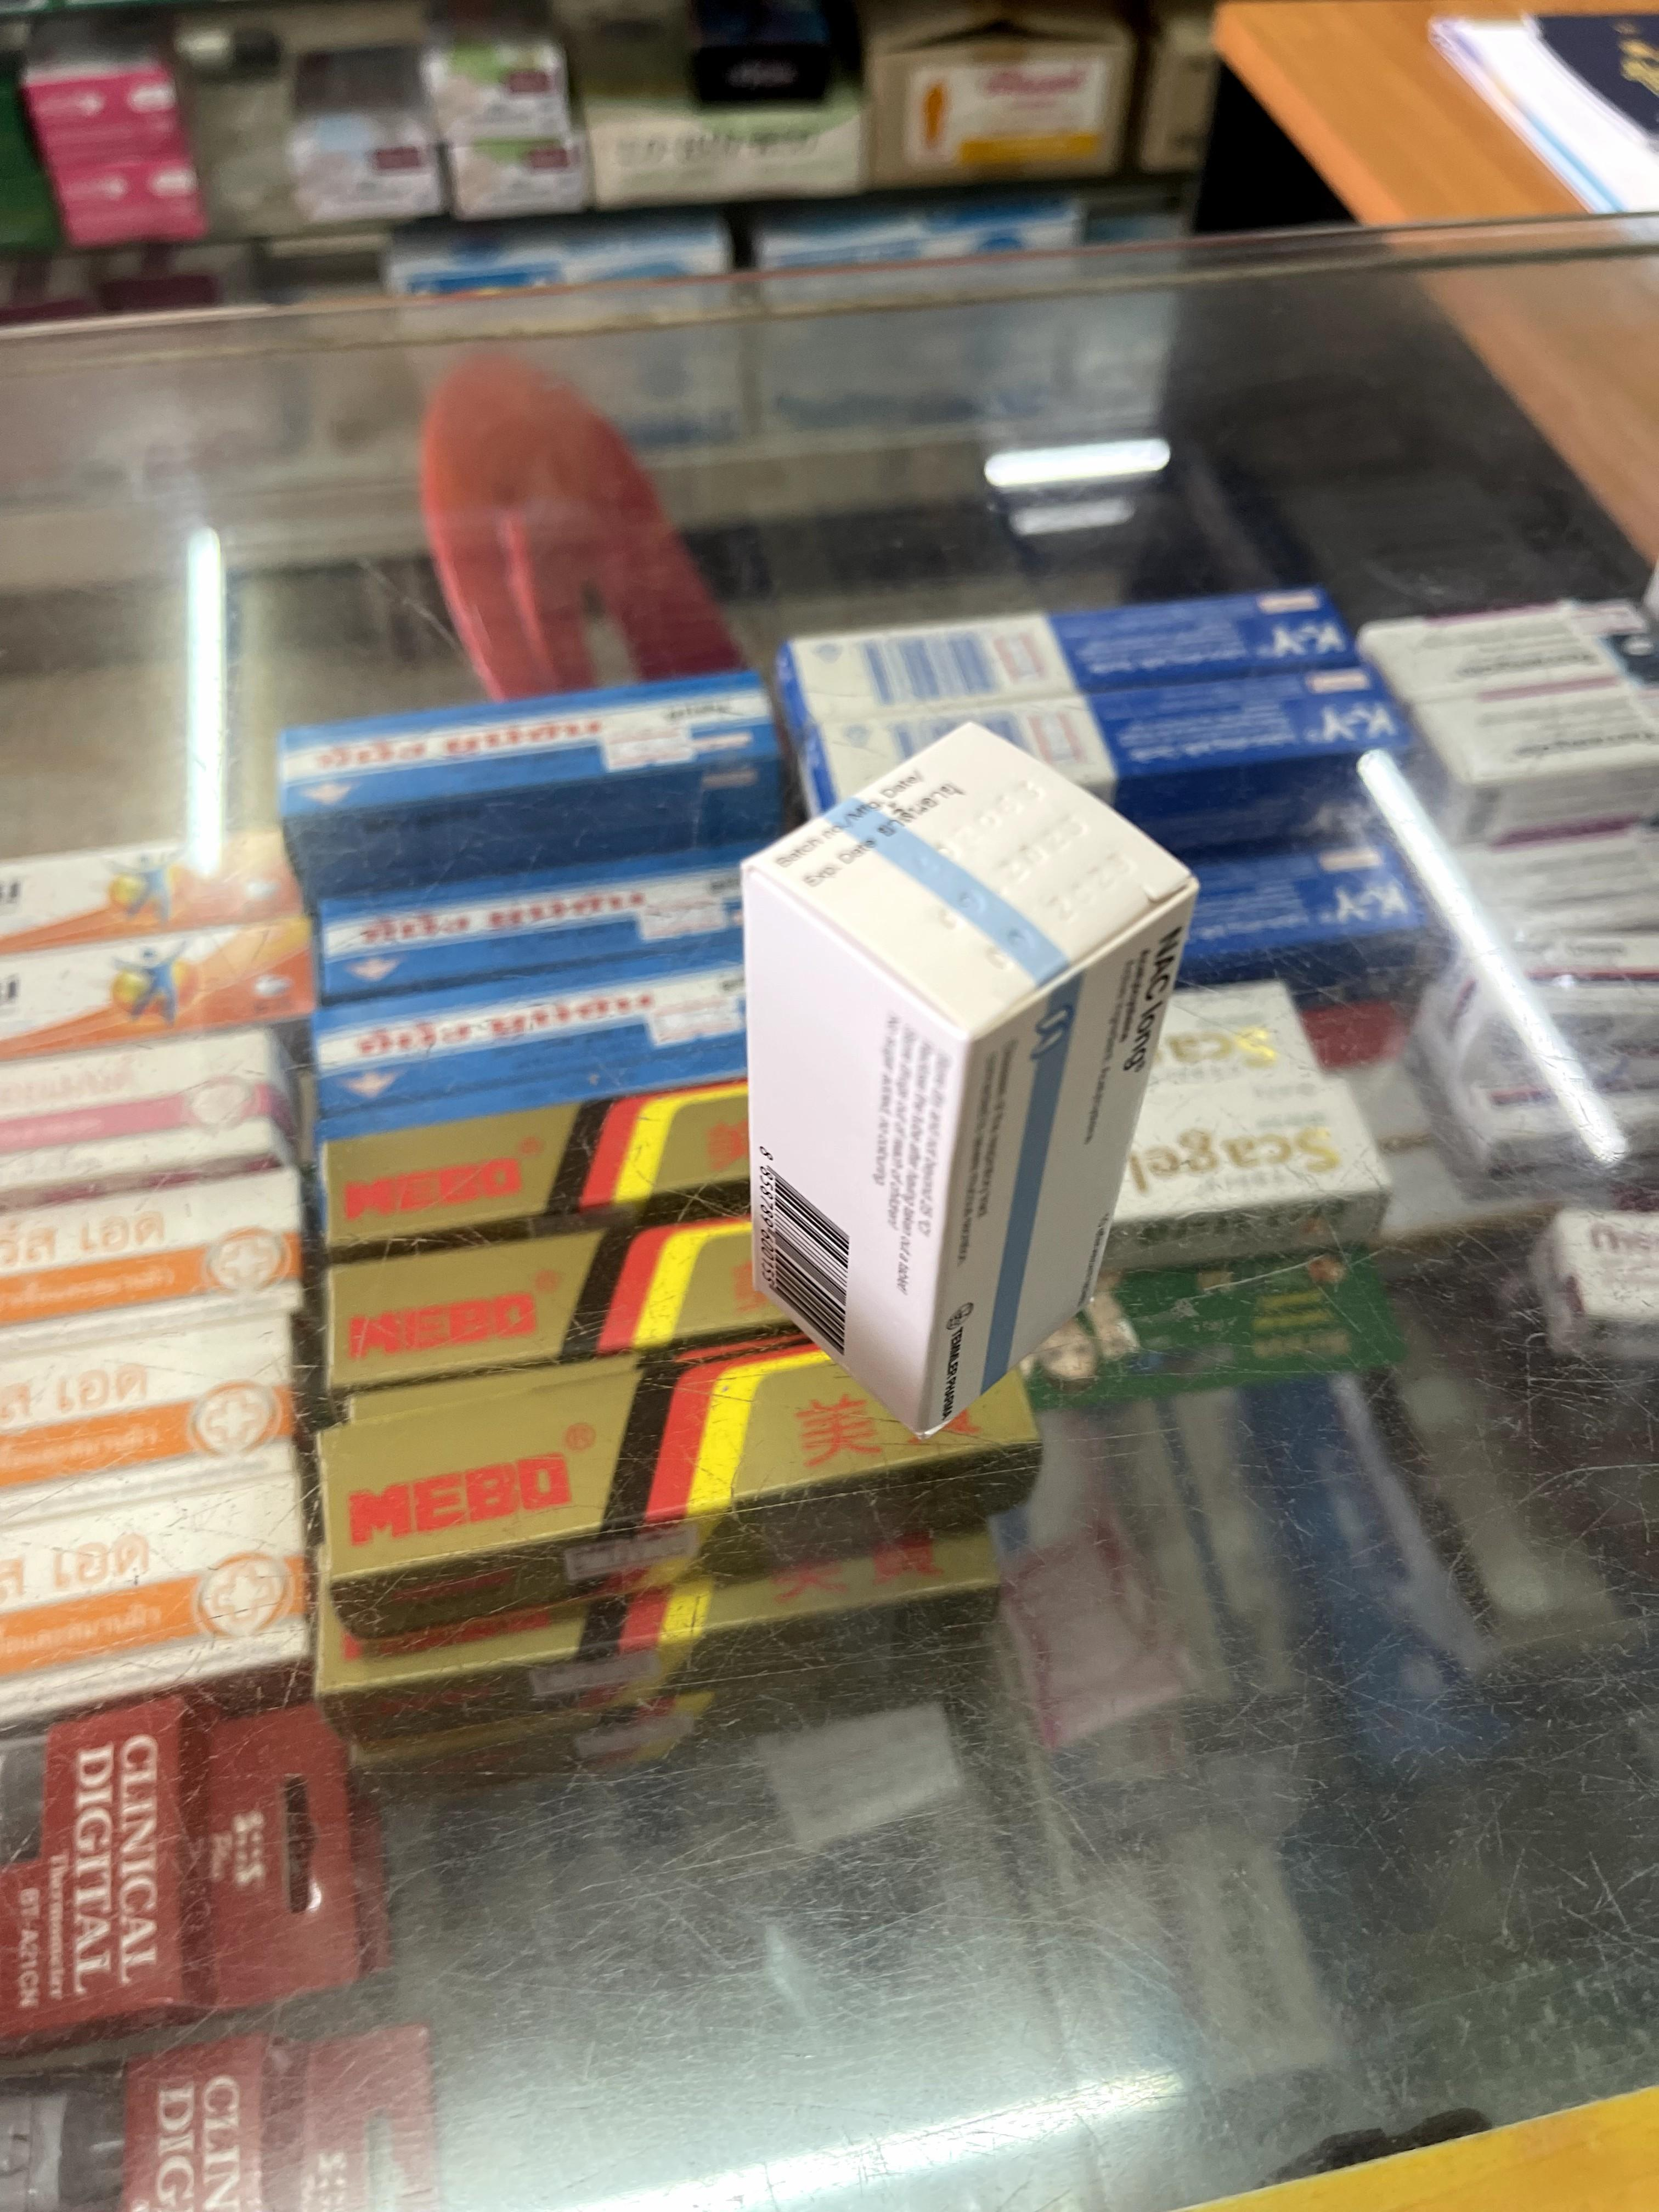Nac-Long: (749, 732, 1199, 1440)
